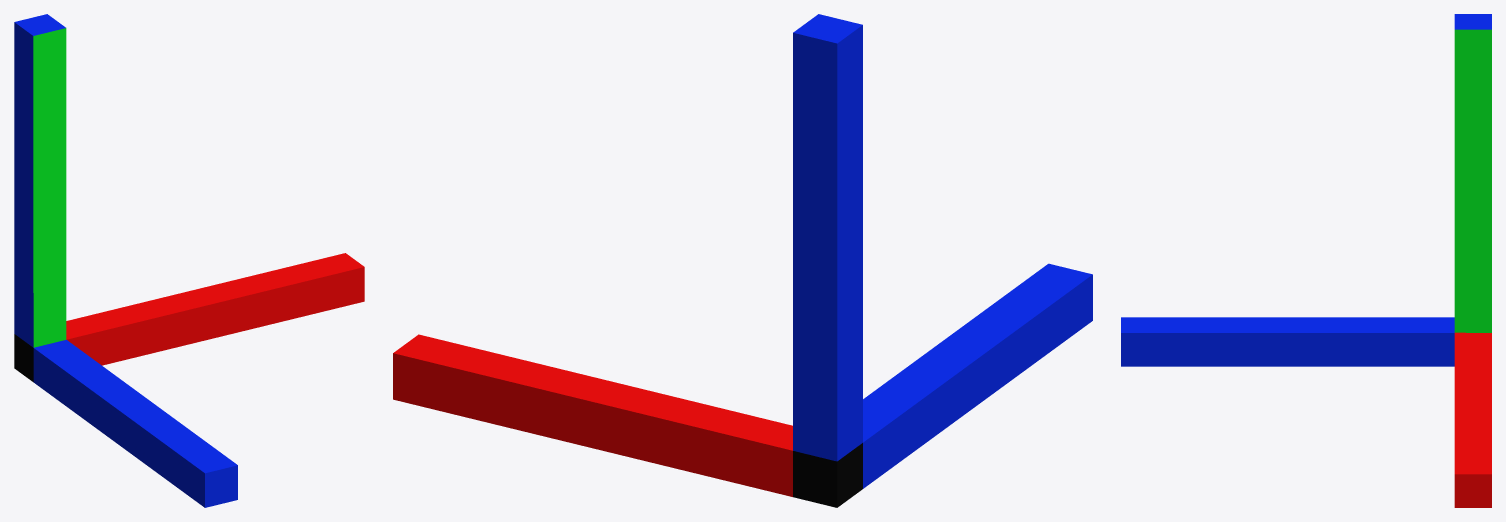
Rendered from axis_helper.obj.
The picture shows the model from 3 angles, left to right: view 1: azimuth 30°, elevation 25°; view 2: azimuth 150°, elevation 25°; view 3: azimuth 270°, elevation 25°; orthographic projection. The views are drawn at different scales.
Visible parts, largest first — view 1: axis_helper_Cube; view 2: axis_helper_Cube; view 3: axis_helper_Cube.
Part boxes in pixels (box(x1,y1,x2,y2)): axis_helper_Cube: box(14, 14, 364, 507); axis_helper_Cube: box(393, 14, 1092, 507); axis_helper_Cube: box(1121, 14, 1491, 507).
Bounding box in the file's own units: 2.1 × 2.1 × 2.1.
